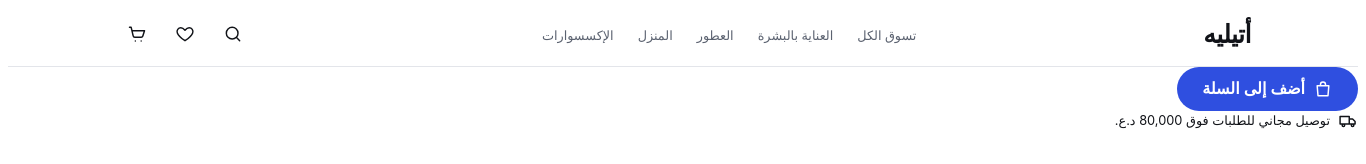
Arabic store › uses Arabic built-in text and Iraqi dinars
Click the button "أضف إلى السلة".
click(1268, 89)  # box [1177,67,1358,111]
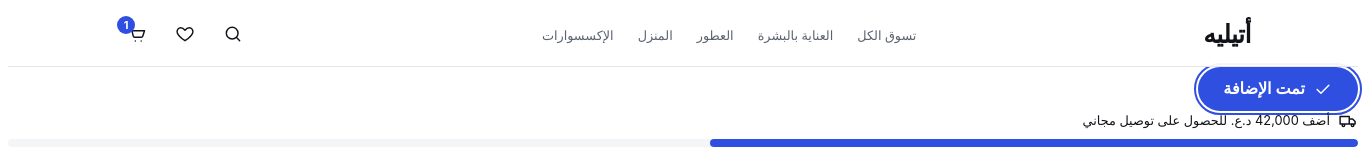
Expected: the text "أضف 42,000 د.ع. للحصول على توصيل مجاني" is shown, [1083,113,1330,128]
Result: the link named "السلة، 1 قطعة" is shown at [117,16,147,44]
